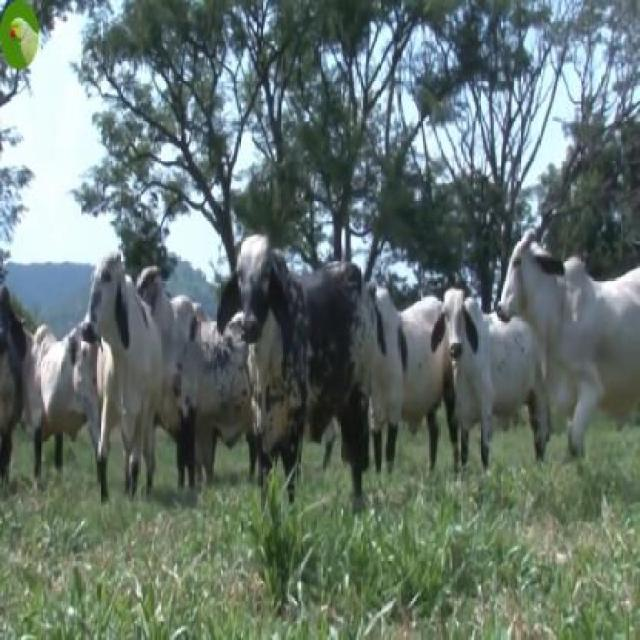Cow: (216, 230, 376, 508), (497, 226, 638, 474), (84, 250, 158, 504), (431, 282, 514, 470)
